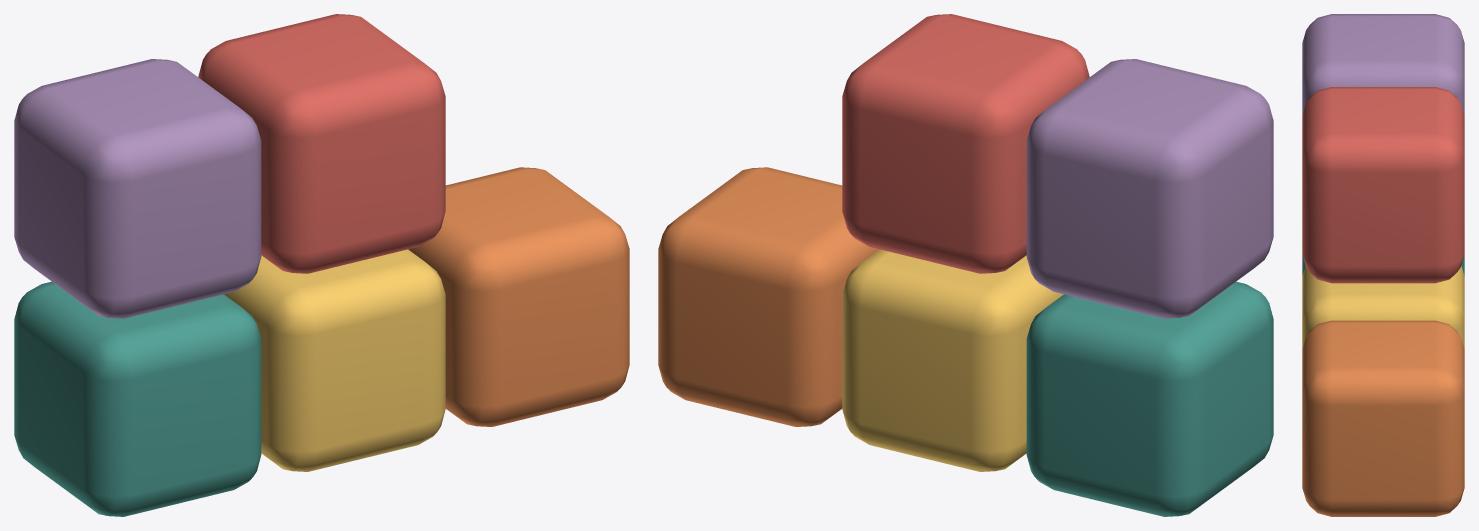
The model's file is word-blocks.glb.
3 views of the same model, side by side, from view 1: azimuth 30°, elevation 25°; view 2: azimuth 150°, elevation 25°; view 3: azimuth 270°, elevation 25° (orthographic). The views are drawn at different scales.
Visible parts, largest first — view 1: building block.003, building block, building block.004, building block.002, building block.001; view 2: building block.003, building block, building block.004, building block.002, building block.001; view 3: building block.002, building block.004, building block.003, building block.001.
Part boxes in pixels (bbox=[...]): building block.003: bbox=[14, 59, 261, 318]; building block: bbox=[14, 281, 261, 516]; building block.004: bbox=[198, 14, 445, 273]; building block.002: bbox=[408, 167, 629, 426]; building block.001: bbox=[224, 249, 445, 471]; building block.003: bbox=[1026, 59, 1273, 318]; building block: bbox=[1026, 281, 1273, 516]; building block.004: bbox=[842, 14, 1089, 273]; building block.002: bbox=[658, 167, 879, 426]; building block.001: bbox=[842, 249, 1063, 471]; building block.002: bbox=[1302, 320, 1464, 516]; building block.004: bbox=[1302, 87, 1464, 283]; building block.003: bbox=[1302, 14, 1464, 114]; building block.001: bbox=[1302, 266, 1464, 348].
Bounding box in the file's own units: 1.03 × 0.69 × 0.33.
